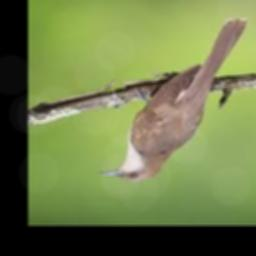Cuckoo: (98, 19, 246, 181)
